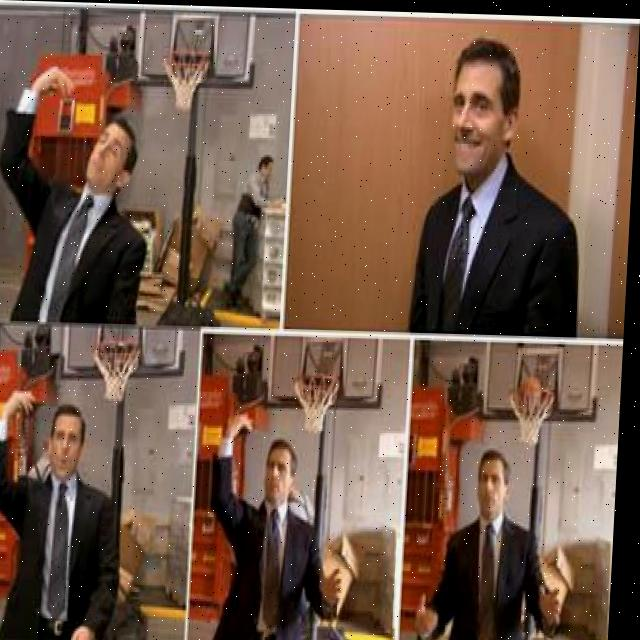Basketball: (515, 377, 541, 413)
hoop: (91, 333, 142, 401), (290, 372, 341, 434), (161, 48, 211, 110), (505, 386, 555, 446)
